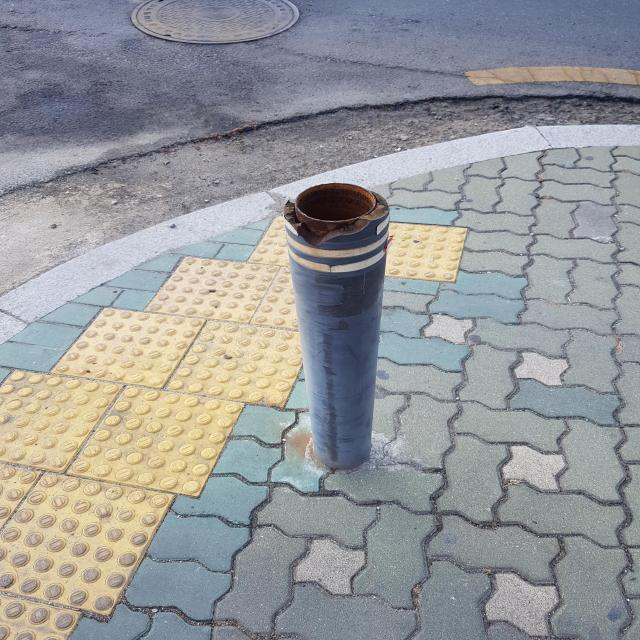pole: (282, 181, 396, 471)
